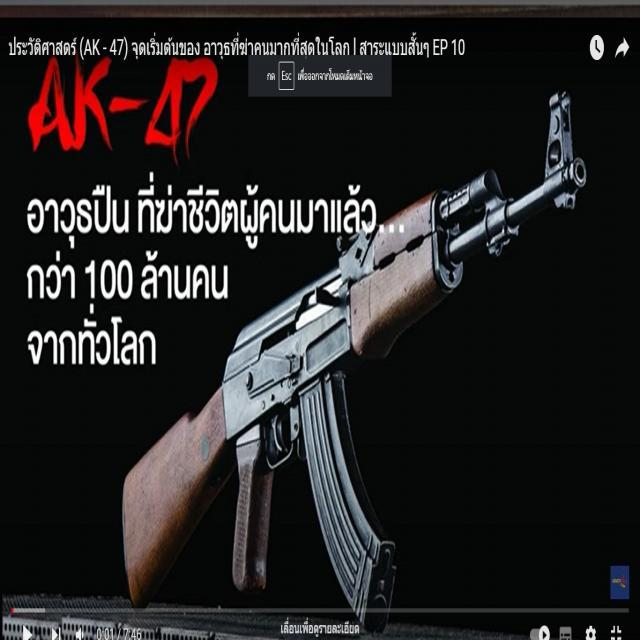ak: (124, 102, 594, 634)
